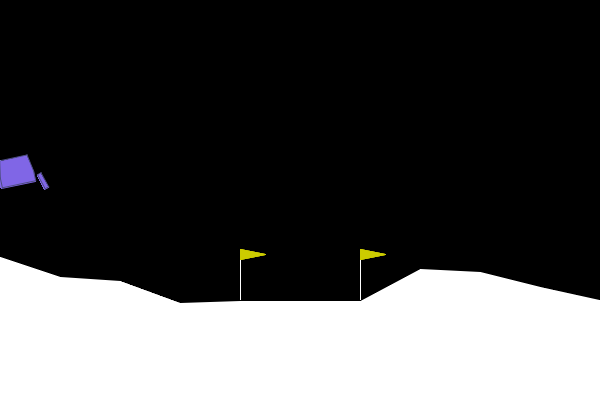lander: (0, 150, 50, 202)
